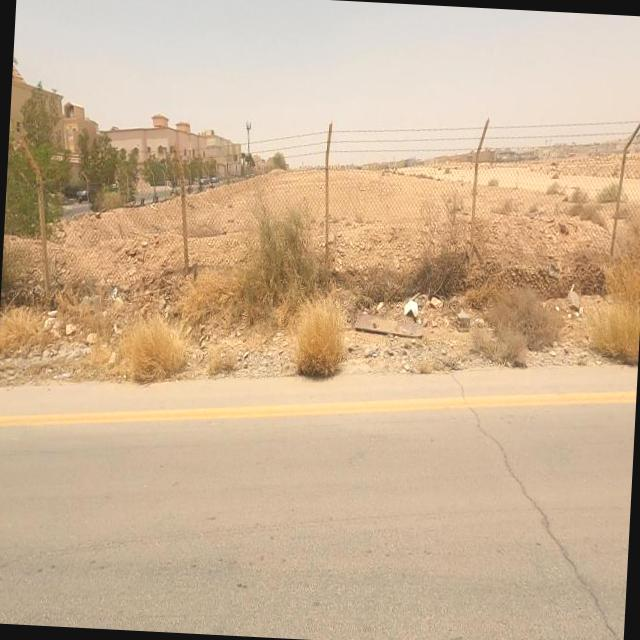debris: (372, 246, 476, 365)
